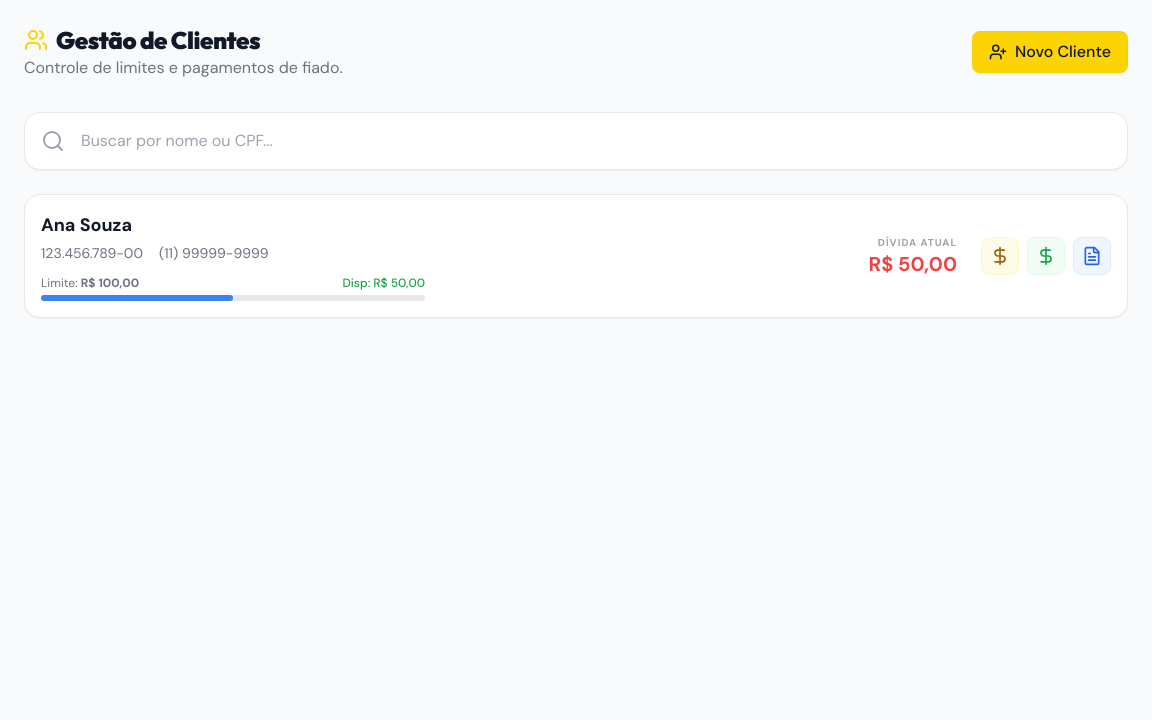
Test case: Customers credit limit editing › patches the credit limit, refreshes customers, and updates the local cache
Click the button named "Editar limite de Ana Souza" at (1000, 256), box [981, 237, 1019, 275]
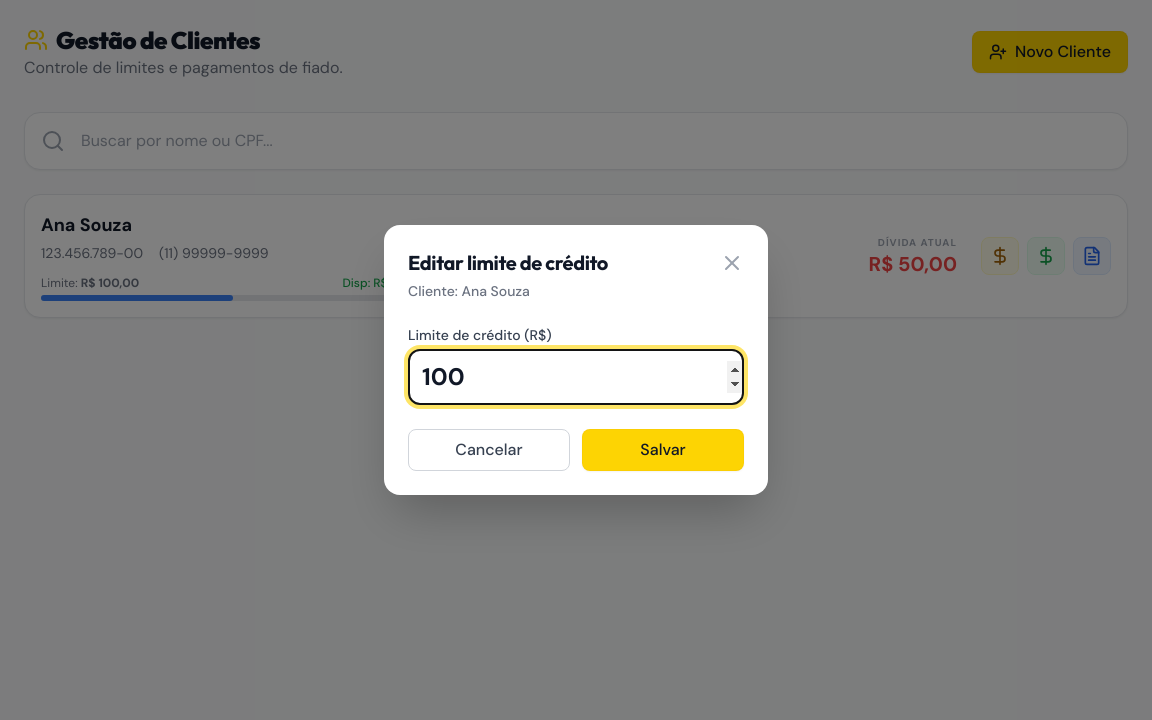
Replace the text in the number field with "80" at (576, 377), box [408, 349, 744, 405]
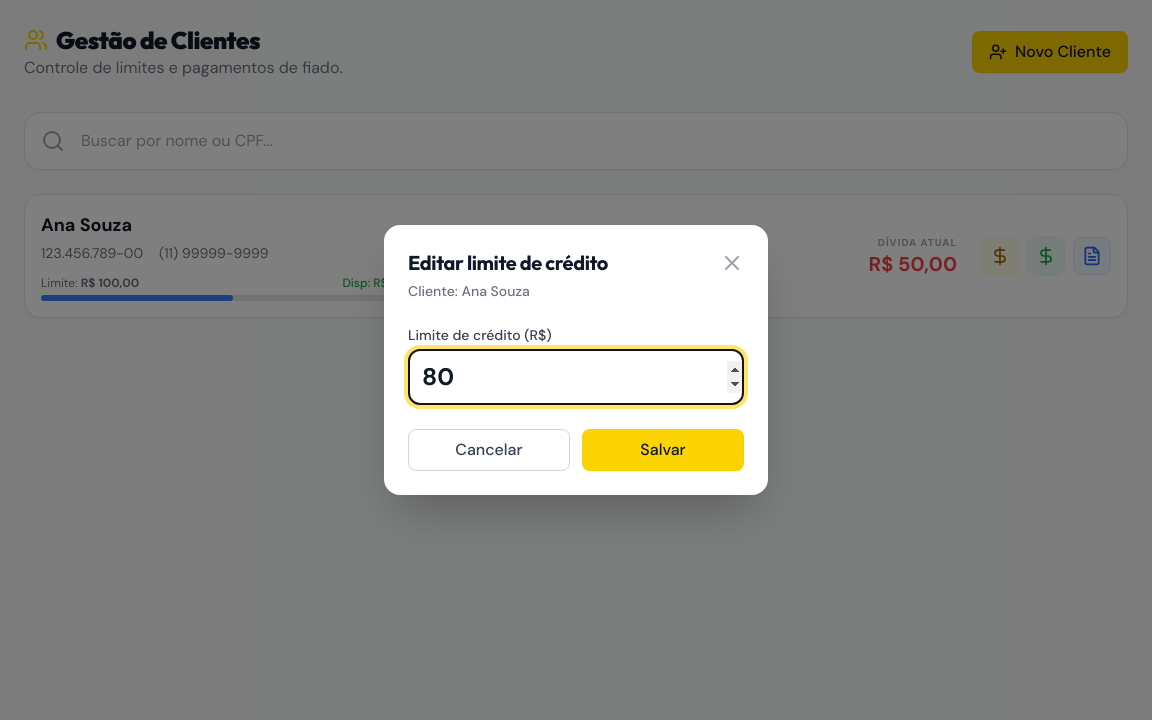
Click the button "Salvar" at (663, 450), box [582, 429, 744, 471]
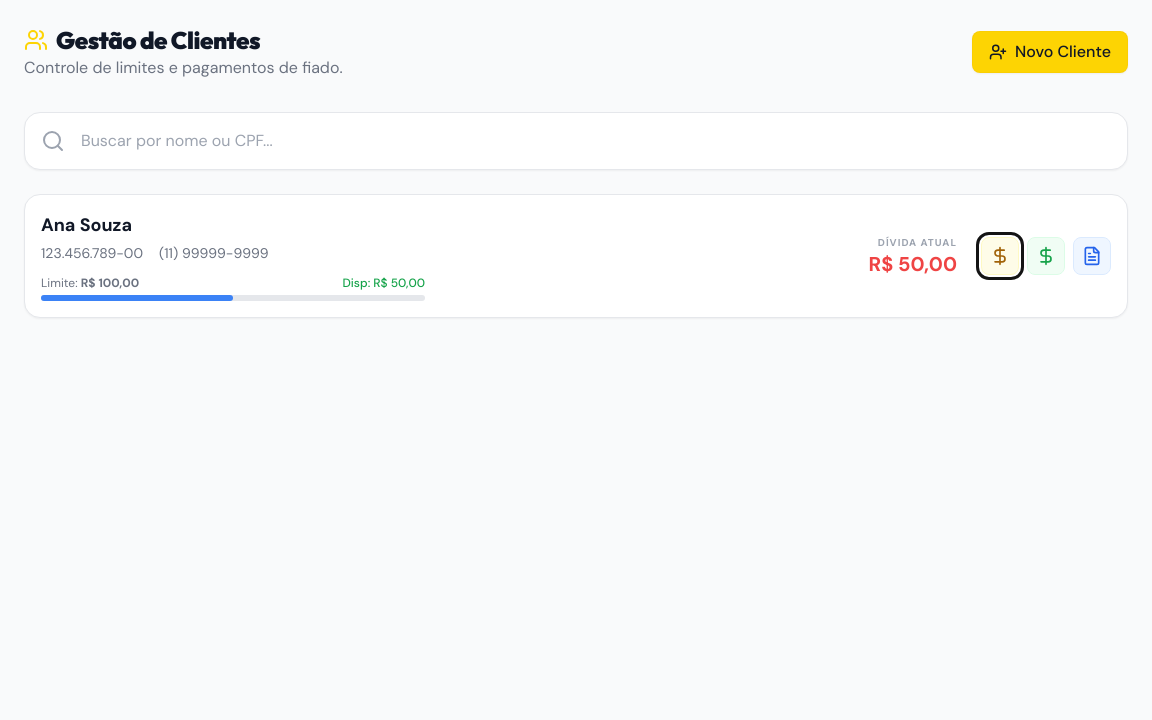
expect the heading "Editar limite de crédito" is gone: met
